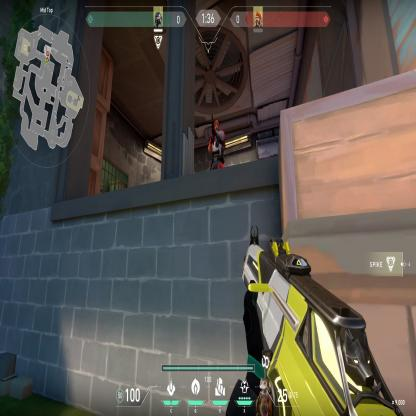enemy: (207, 117, 226, 172)
